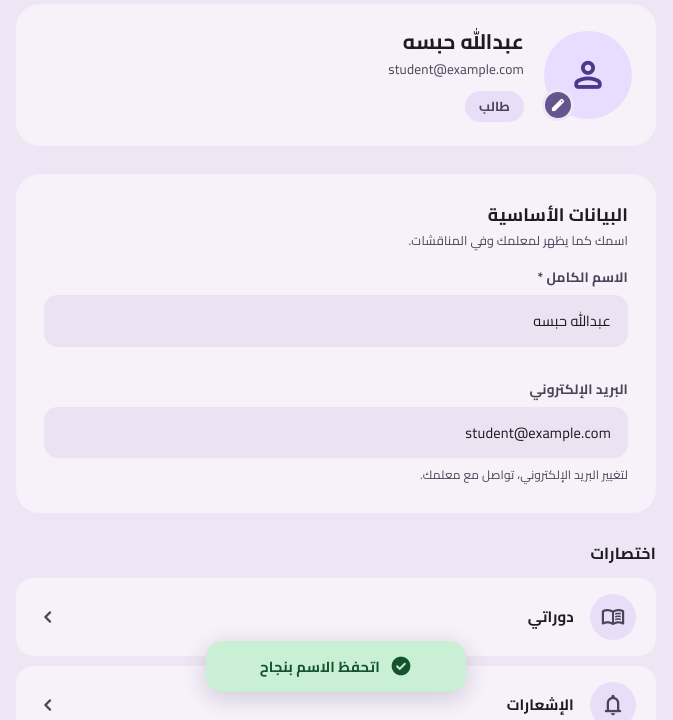
it: StudentProfilePage › shows an error toast and keeps the field editable when saving the name fails
This screenshot has width=673, height=720.
Type " تعديل" into the field labelled "الاسم الكامل *".
click(336, 321); type(" تعديل")  # box [44,296,628,347]
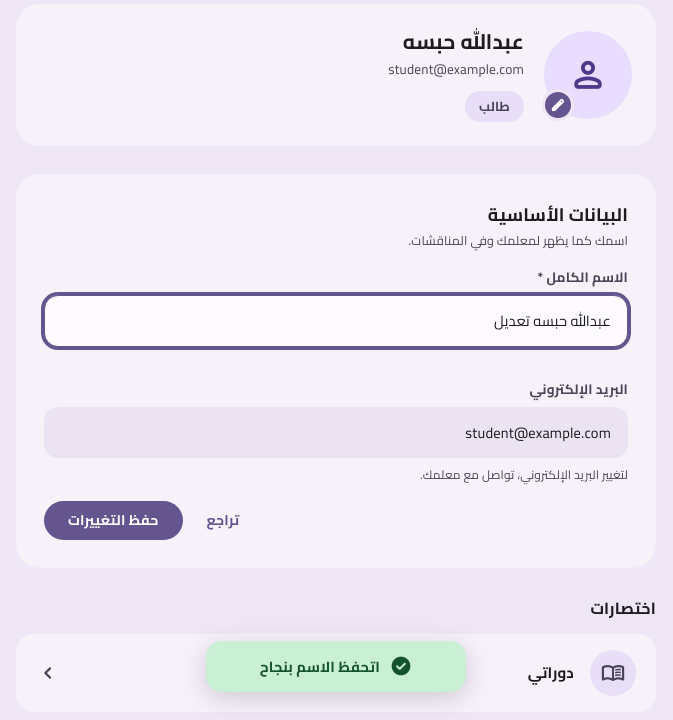
Click the button "حفظ التغييرات".
click(113, 520)  # box [44,501,182,540]
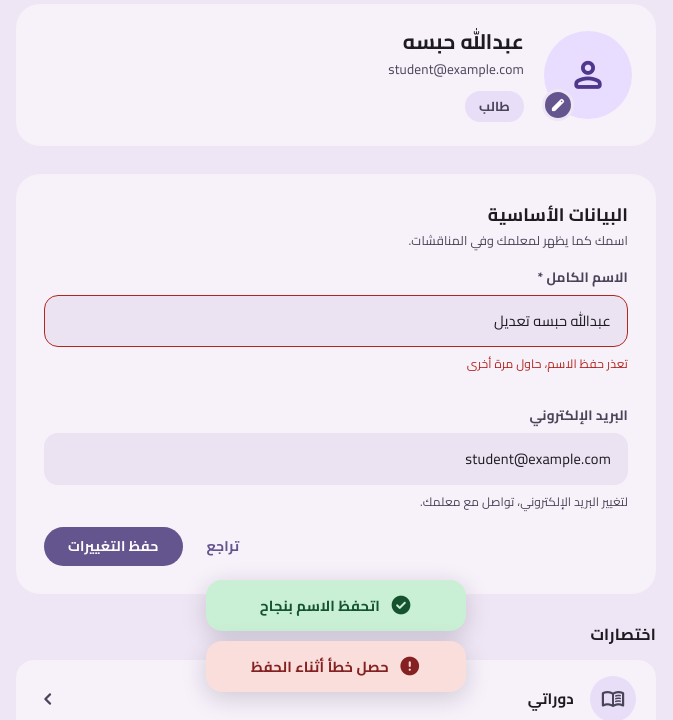
Expected: the field labelled "الاسم الكامل *" is enabled, [44,296,628,347]
Now the text "حصل خطأ أثناء الحفظ" is shown, box [251,655,389,678]
